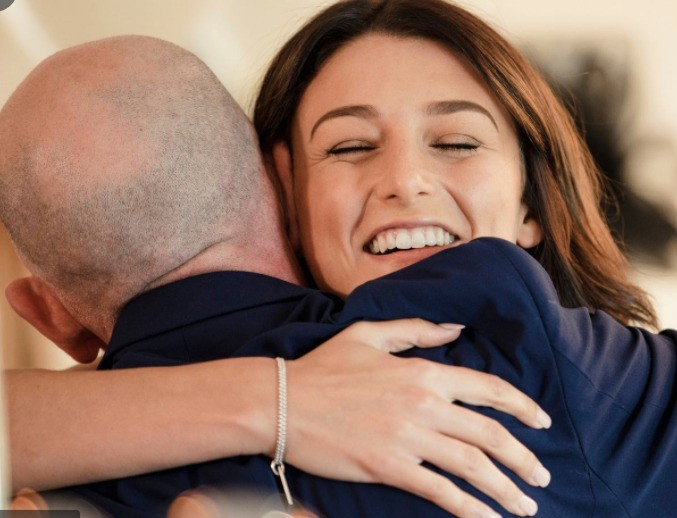Bad: (1, 1, 677, 518)
